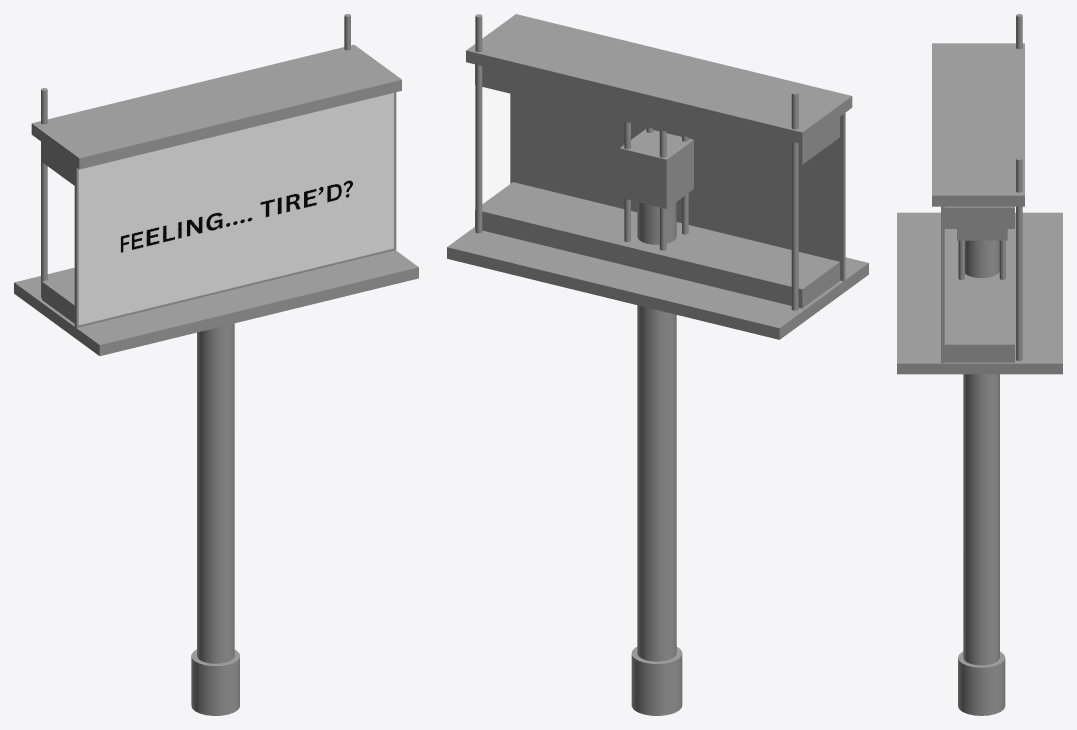
The model's file is BillBoard_Feeling_Tired.fbx.
The picture shows the model from 3 angles, left to right: view 1: azimuth 30°, elevation 25°; view 2: azimuth 150°, elevation 25°; view 3: azimuth 270°, elevation 25°; orthographic projection. The views are drawn at different scales.
Parts seen in each view (by area): view 1: pPlane1, polySurface29, polySurface13, polySurface21, polySurface27, polySurface25, polySurface19, polySurface23; view 2: polySurface27, polySurface29, polySurface13, polySurface25, polySurface21, polySurface23, polySurface17, polySurface19, polySurface15; view 3: polySurface21, polySurface29, polySurface13, polySurface25, polySurface23, polySurface15, polySurface27, polySurface17.
Boxes of the visible parts, x1=… form: pPlane1: x1=78, y1=93, x2=394, y2=327; polySurface29: x1=31, y1=44, x2=401, y2=169; polySurface13: x1=191, y1=323, x2=239, y2=715; polySurface21: x1=14, y1=250, x2=418, y2=355; polySurface27: x1=74, y1=92, x2=396, y2=327; polySurface25: x1=42, y1=273, x2=74, y2=323; polySurface19: x1=41, y1=88, x2=47, y2=297; polySurface23: x1=42, y1=142, x2=74, y2=185; polySurface27: x1=510, y1=93, x2=845, y2=281; polySurface29: x1=466, y1=14, x2=852, y2=143; polySurface13: x1=631, y1=202, x2=682, y2=715; polySurface25: x1=475, y1=182, x2=840, y2=308; polySurface21: x1=447, y1=227, x2=868, y2=339; polySurface23: x1=475, y1=64, x2=839, y2=164; polySurface17: x1=619, y1=129, x2=693, y2=208; polySurface19: x1=791, y1=91, x2=798, y2=310; polySurface15: x1=475, y1=14, x2=482, y2=233; polySurface21: x1=897, y1=212, x2=1062, y2=374; polySurface29: x1=932, y1=43, x2=1024, y2=206; polySurface13: x1=958, y1=240, x2=1005, y2=715; polySurface25: x1=944, y1=229, x2=1014, y2=362; polySurface23: x1=944, y1=206, x2=1014, y2=228; polySurface15: x1=1016, y1=157, x2=1022, y2=360; polySurface27: x1=941, y1=206, x2=944, y2=363; polySurface17: x1=957, y1=229, x2=1007, y2=240.
Bounding box in the file's own units: 135 × 255 × 62.02.
